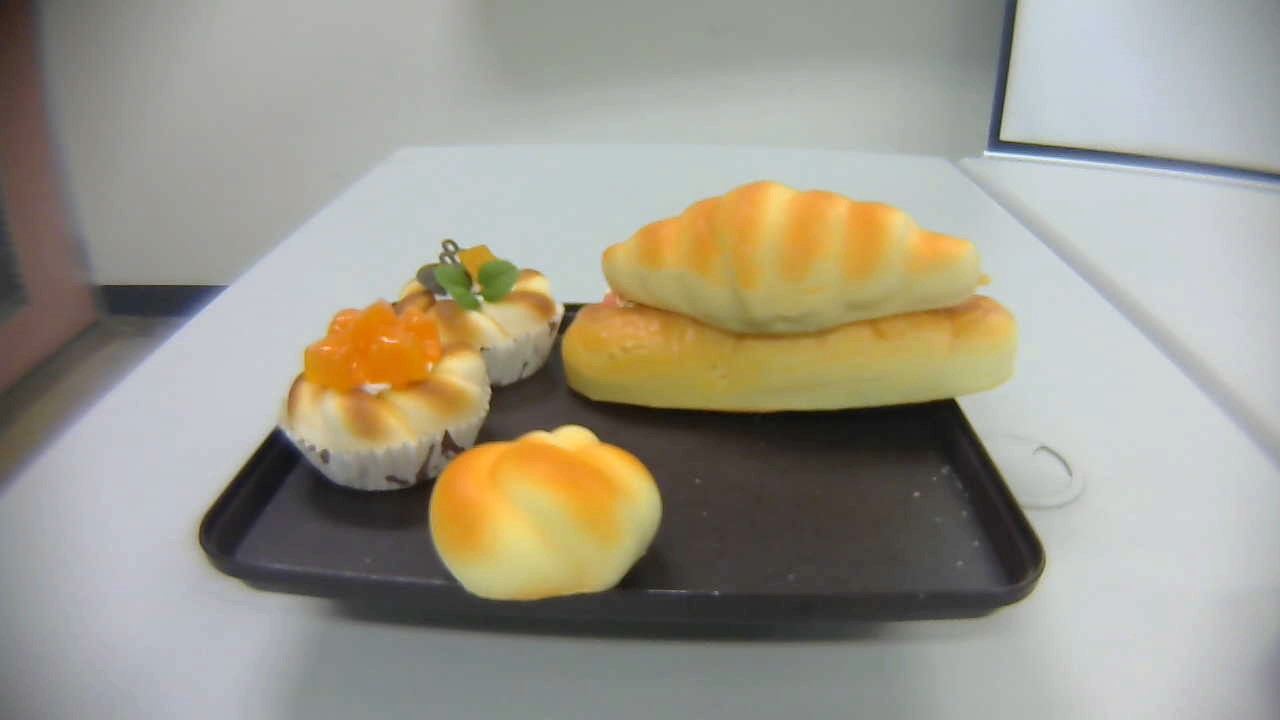croissant: (602, 181, 992, 335)
fruit tart: (391, 239, 566, 386)
hot dog: (561, 272, 1019, 414)
mango tart: (279, 298, 492, 491)
twist bread: (428, 425, 664, 600)
